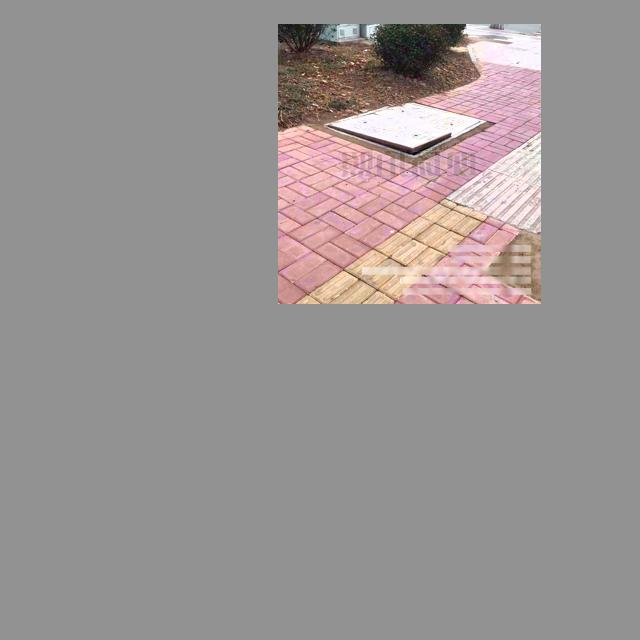uncovered: (324, 102, 487, 158)
